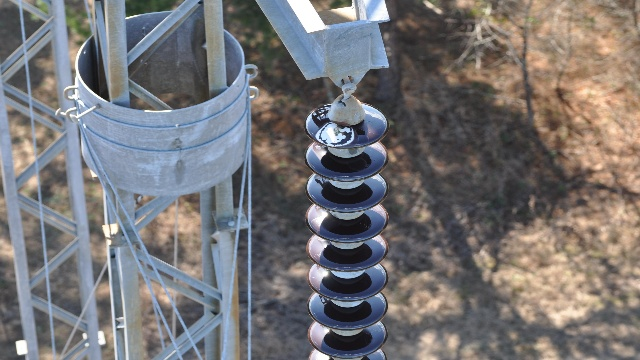insulator_unspecified: (303, 101, 388, 359)
pollution_flashover_local: (314, 121, 355, 146)
